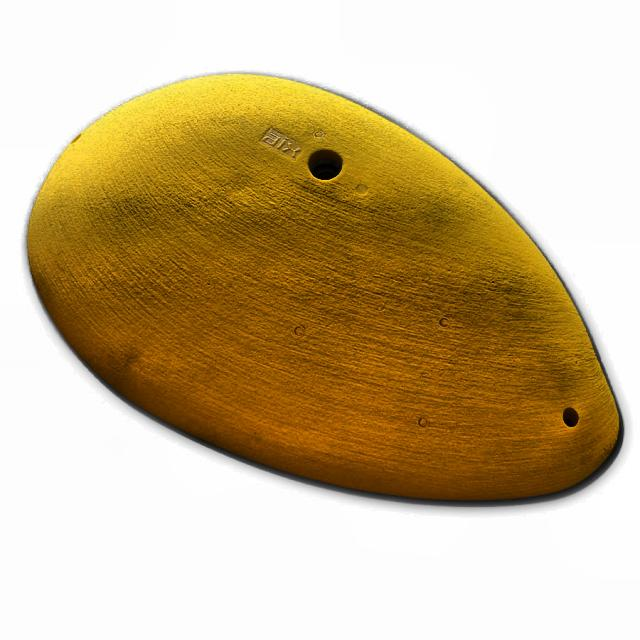Hold: (30, 66, 624, 516)
